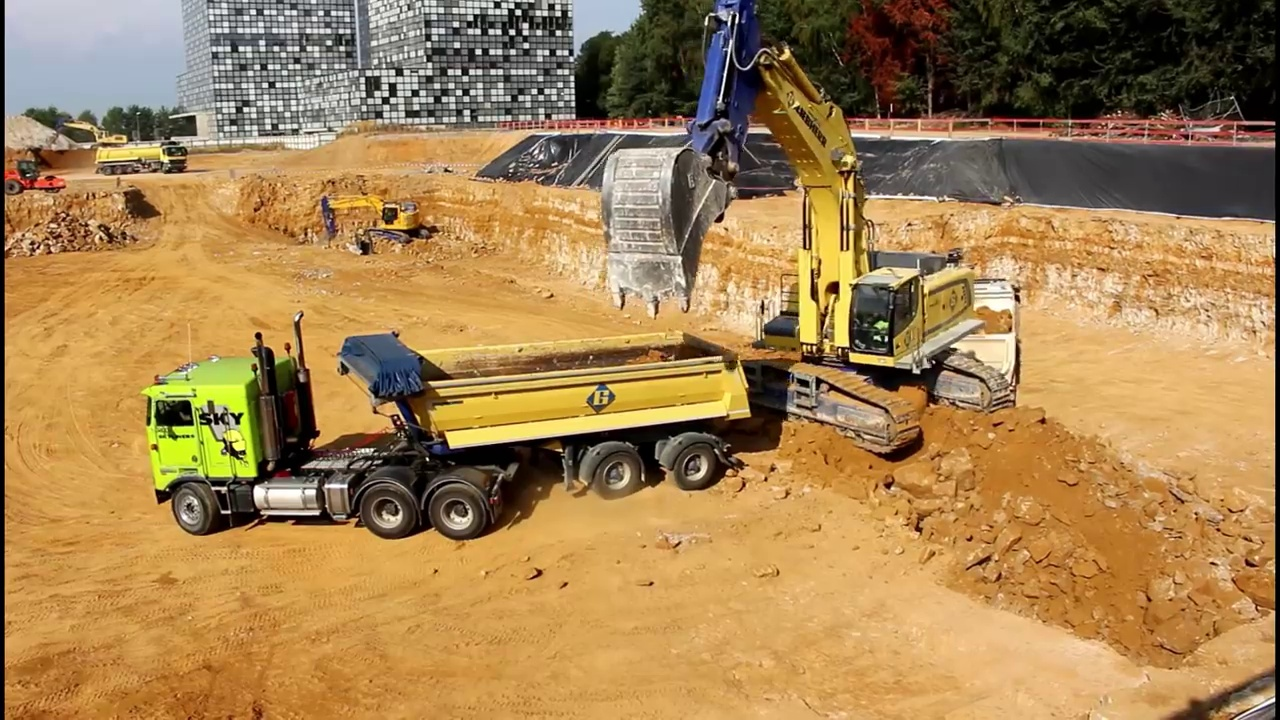compactor: (2, 154, 73, 199)
excavator: (598, 1, 1006, 458), (314, 188, 443, 255), (43, 119, 132, 158)
truck: (137, 303, 763, 550), (914, 258, 1032, 416), (94, 141, 194, 176)
